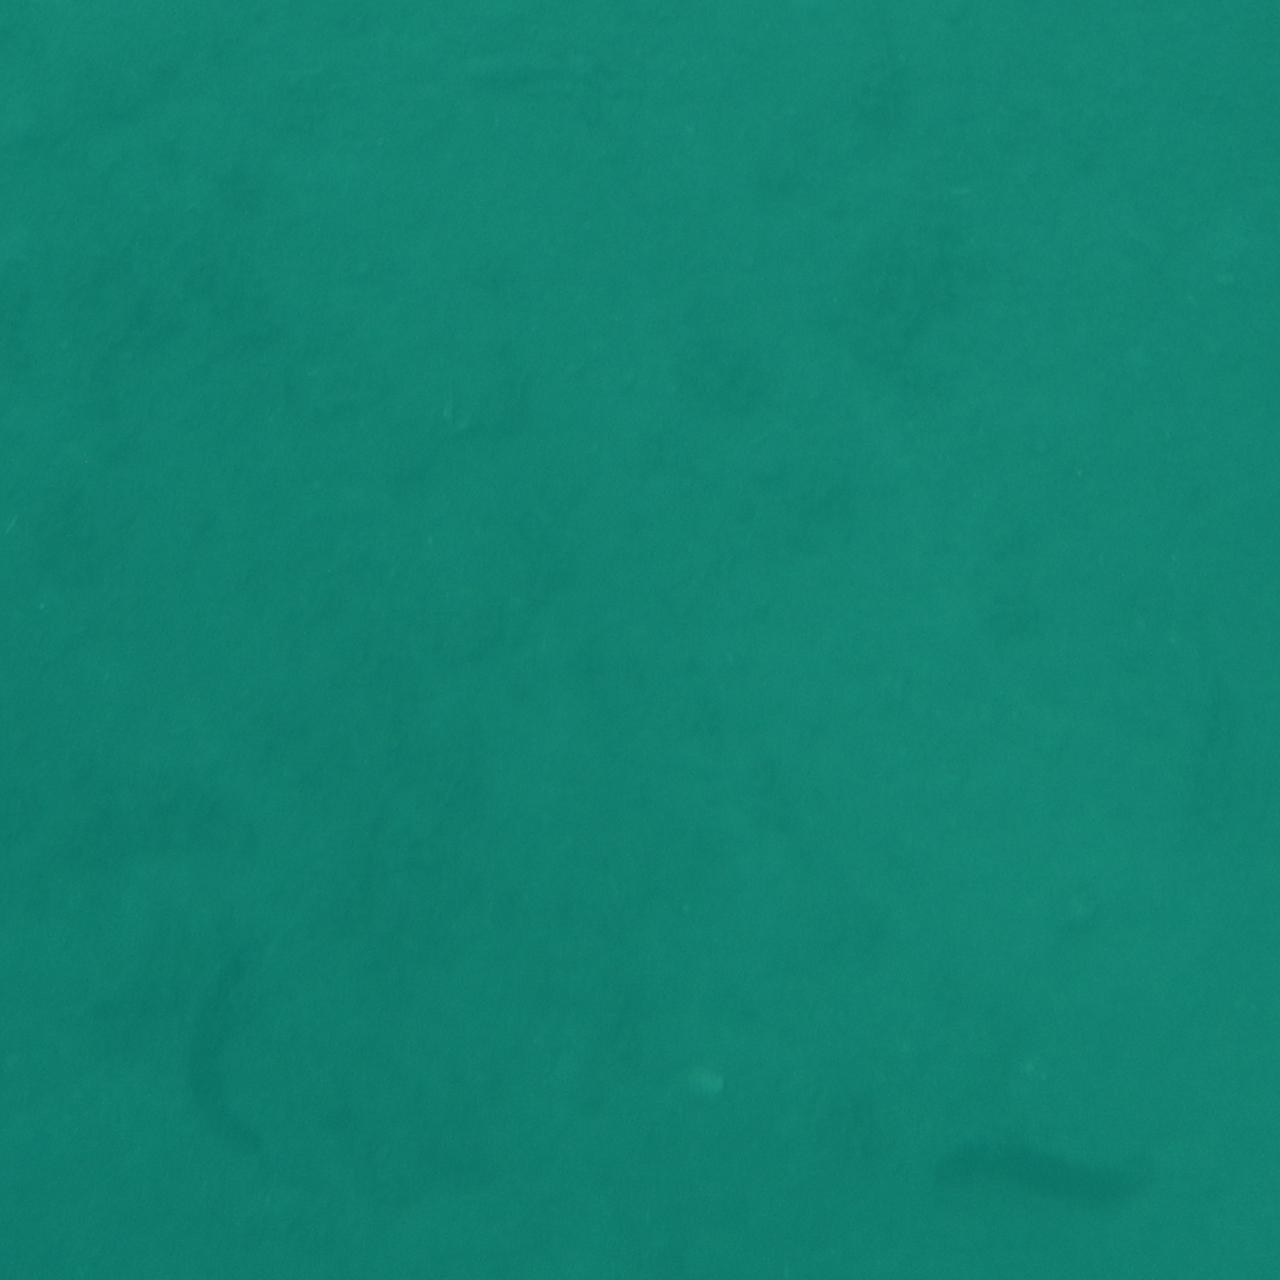Holothuria tubulosa: (172, 925, 313, 1207), (900, 1103, 1175, 1235)
